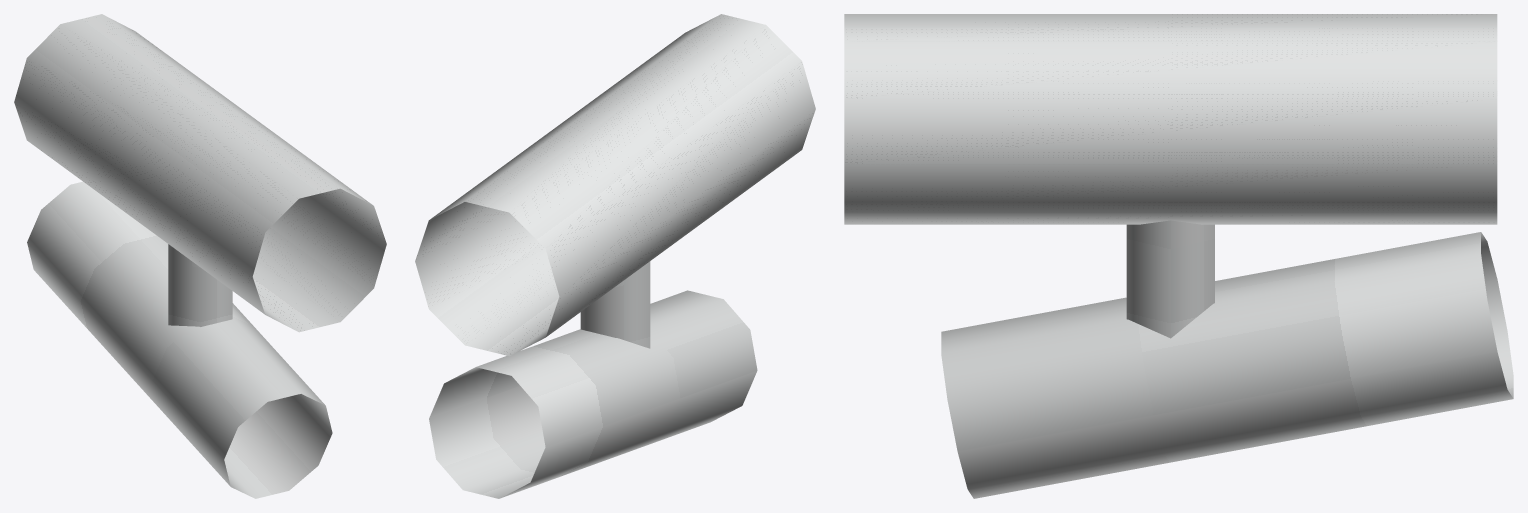
File: trusssignalarm_level6_c7.obj
3 views of the same model, side by side, from view 1: azimuth 30°, elevation 25°; view 2: azimuth 150°, elevation 25°; view 3: azimuth 270°, elevation 25° (orthographic). The views are drawn at different scales.
Parts seen in each view (by area): view 1: trusssignalarm_level6_c7; view 2: trusssignalarm_level6_c7; view 3: trusssignalarm_level6_c7.
Boxes of the visible parts, x1,y1,x2,y2 form: trusssignalarm_level6_c7: (14,14,386,498); trusssignalarm_level6_c7: (415,14,815,498); trusssignalarm_level6_c7: (844,14,1513,498).
Bounding box in the file's own units: 0.325 × 0.7768 × 1.02.
